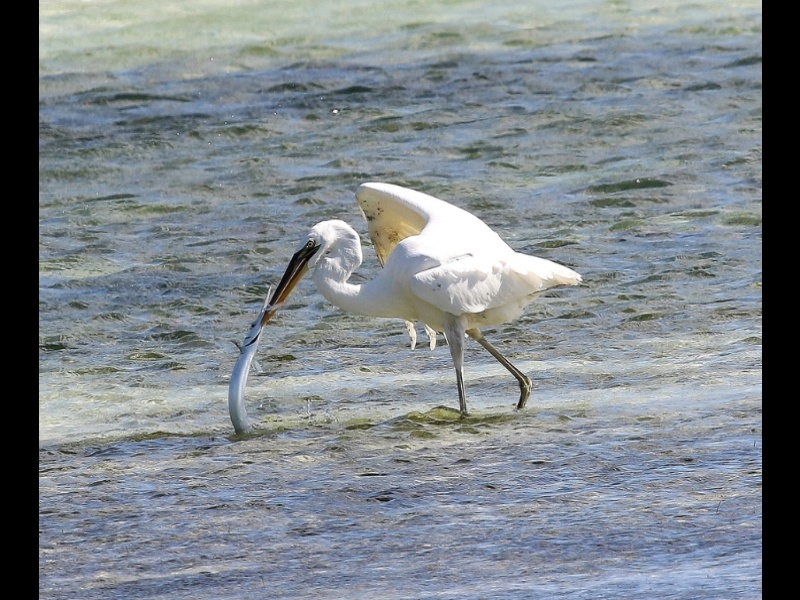heron: (266, 173, 583, 423)
